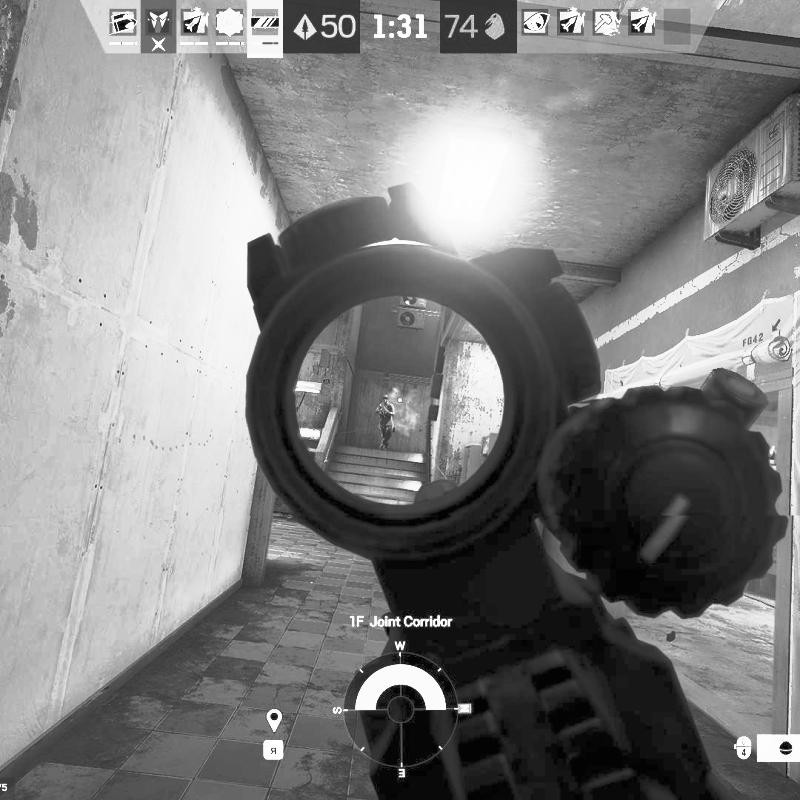Character: (375, 393, 397, 453)
Head: (382, 394, 390, 403)
